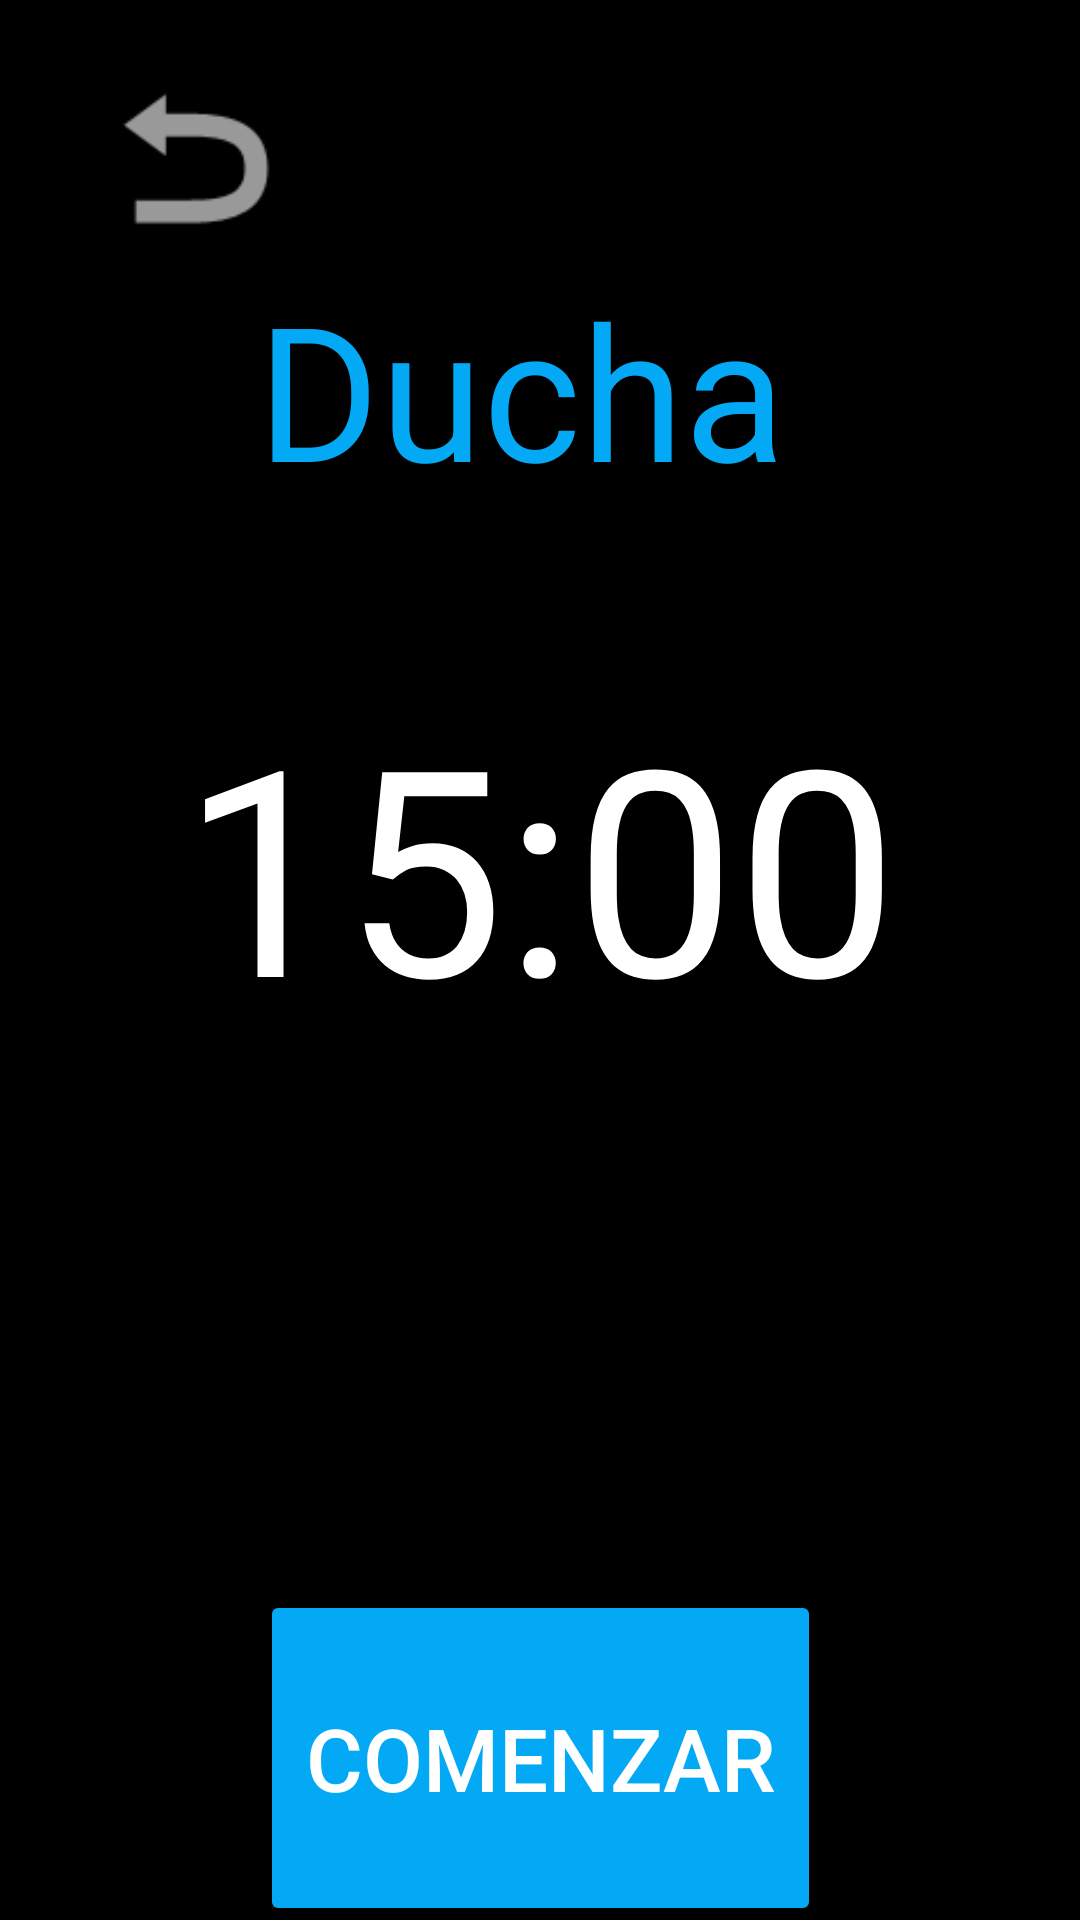

Named icons in this screenshot (1080 x 1920) and their centers, [x,y]:
revert: [196,159]
